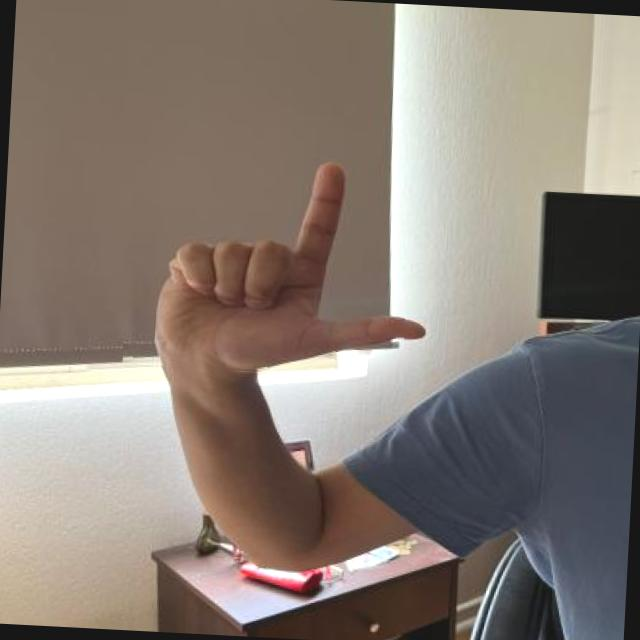L: (122, 151, 447, 384)
